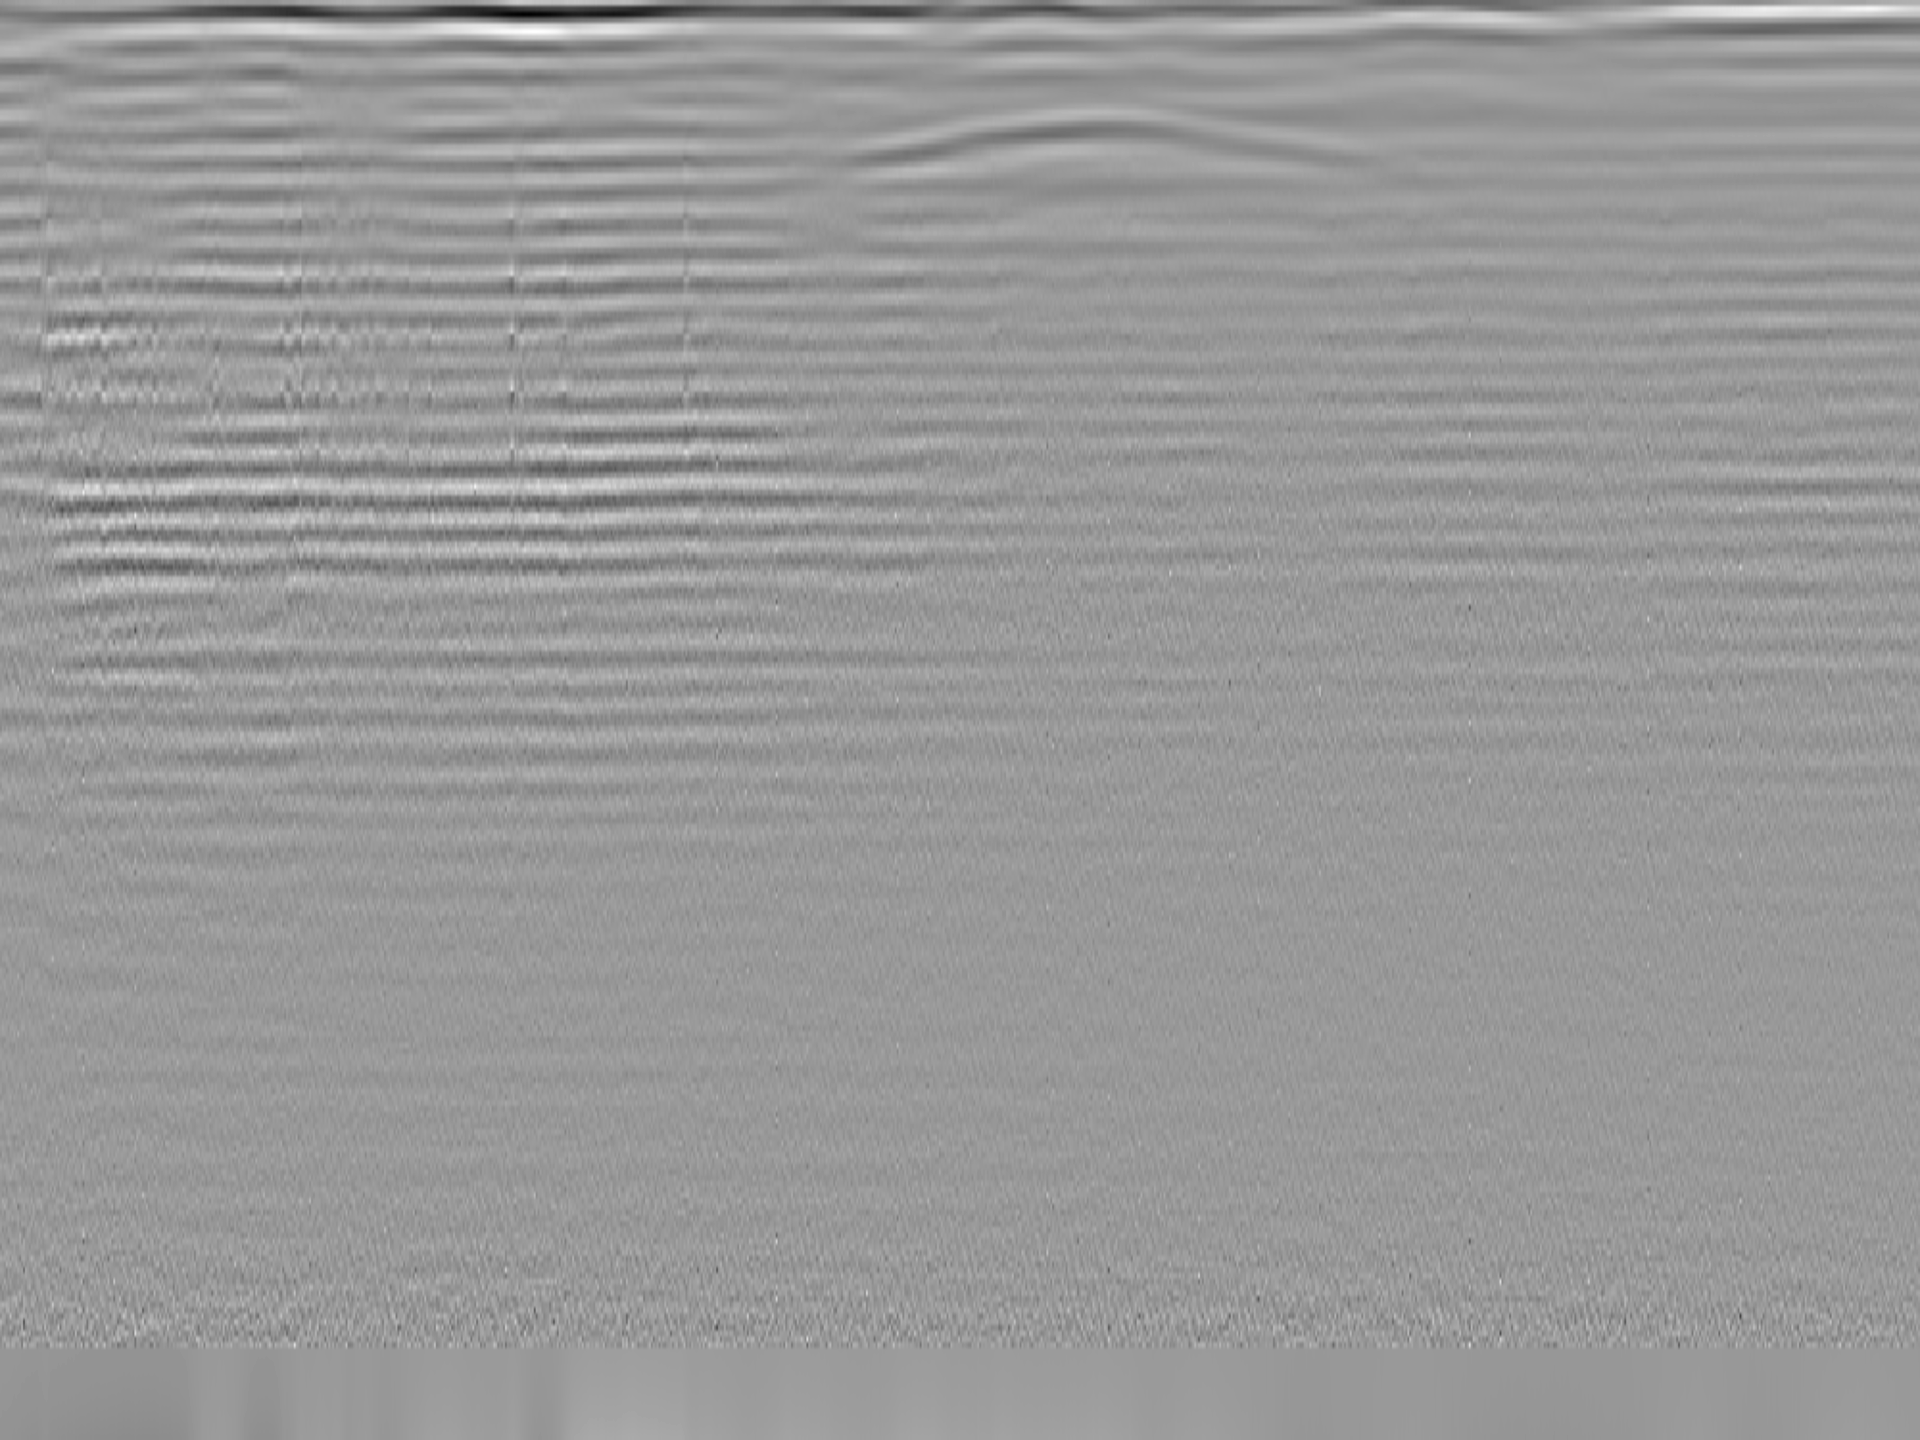Tunnel: (847, 106, 1420, 182)
